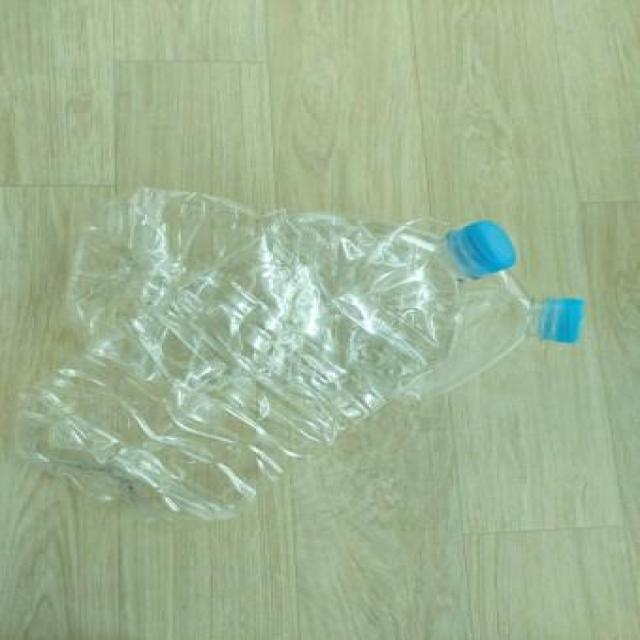bottle: (10, 216, 511, 520)
